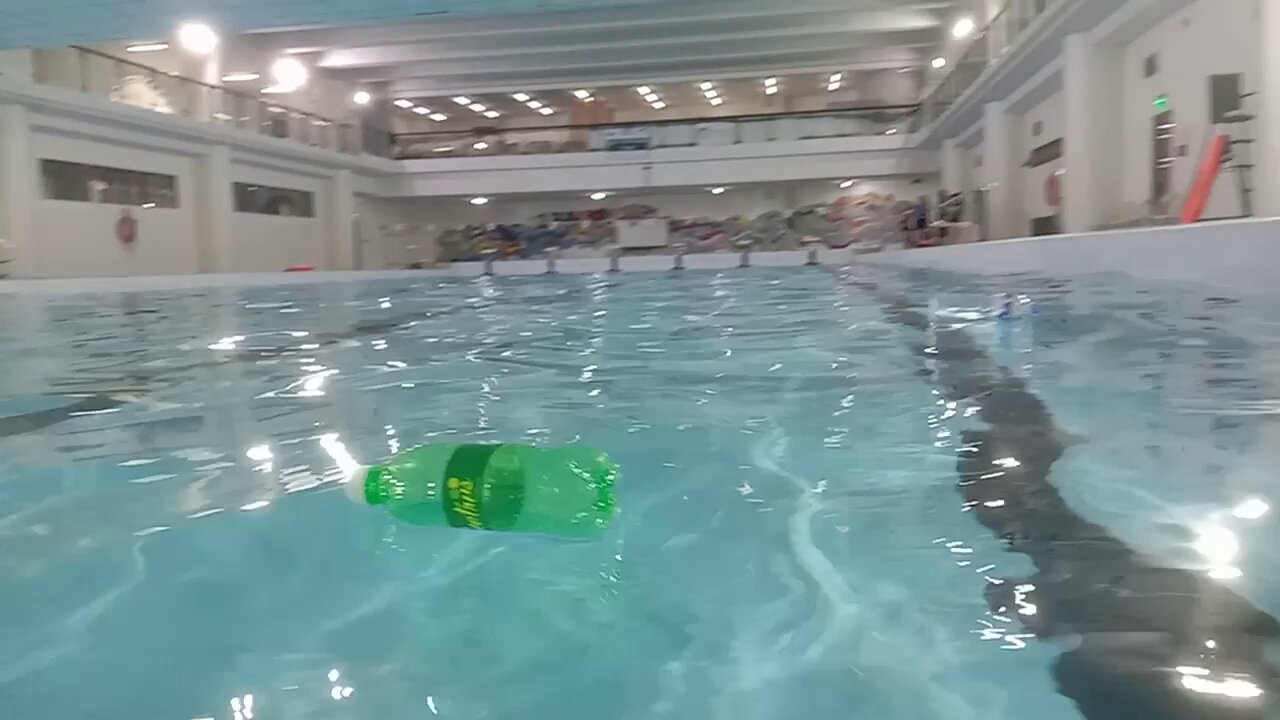plastic_bottle: (346, 445, 618, 536), (927, 291, 1041, 324)
